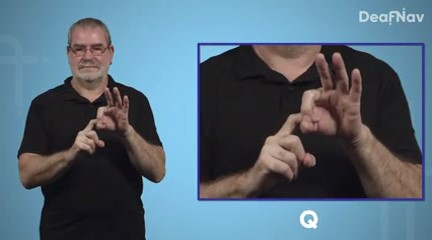Q: (248, 49, 366, 196), (70, 84, 131, 154)
